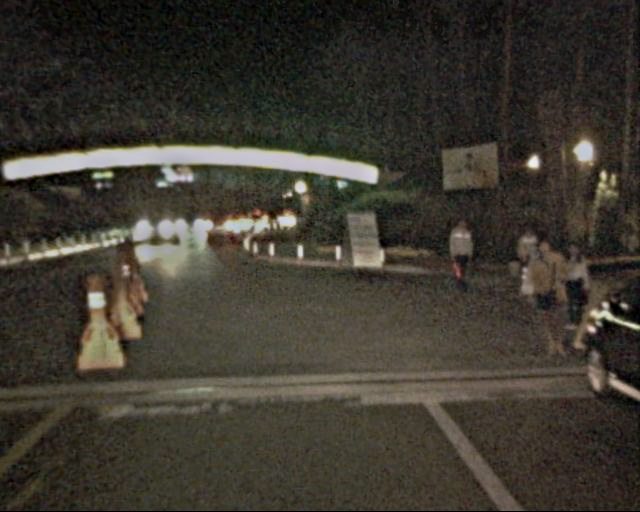person: (523, 239, 569, 347), (553, 240, 598, 345), (443, 213, 482, 298), (515, 223, 541, 289)
